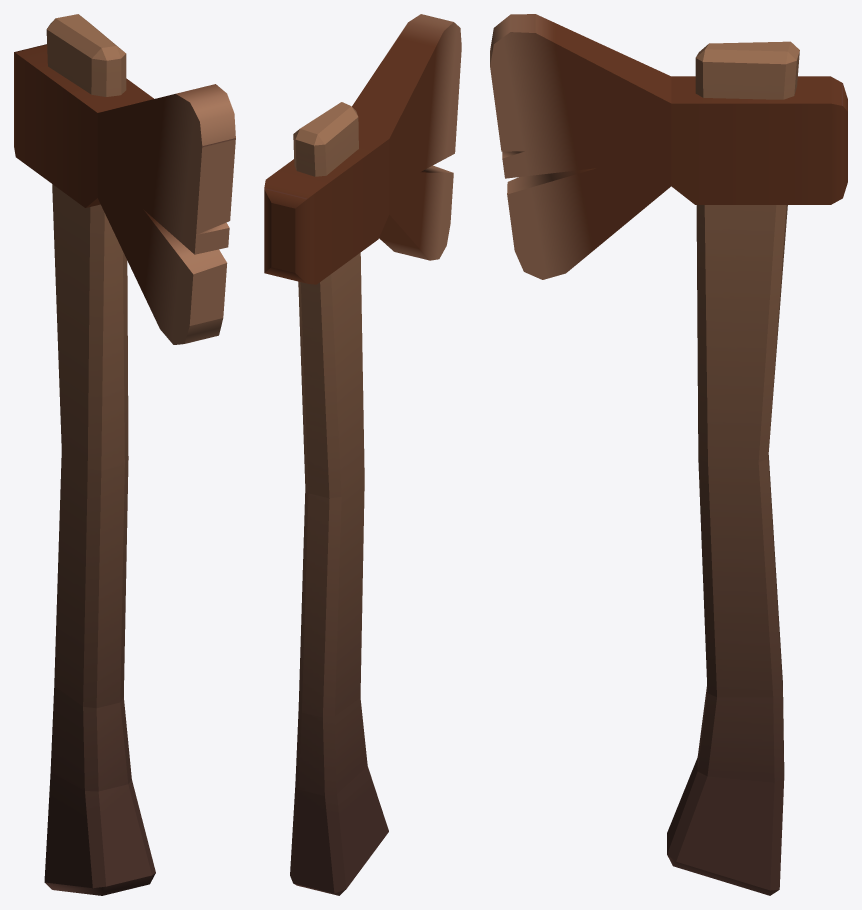
Rendered from Axe_Wood.fbx.
3 renders of one model, left to right at view 1: azimuth 30°, elevation 25°; view 2: azimuth 150°, elevation 25°; view 3: azimuth 270°, elevation 25°, orthographic. The views are drawn at different scales.
Visible parts, largest first — view 1: axe_wood, axe_wood.001; view 2: axe_wood, axe_wood.001; view 3: axe_wood, axe_wood.001.
Part boxes in pixels (x1,y1,x2,y2): axe_wood: (44,14,155,895); axe_wood.001: (14,44,235,344); axe_wood: (290,102,388,895); axe_wood.001: (264,14,461,284); axe_wood: (667,41,799,895); axe_wood.001: (490,14,847,279).
Bounding box in the file's own units: 4.87 × 64.83 × 24.42.
